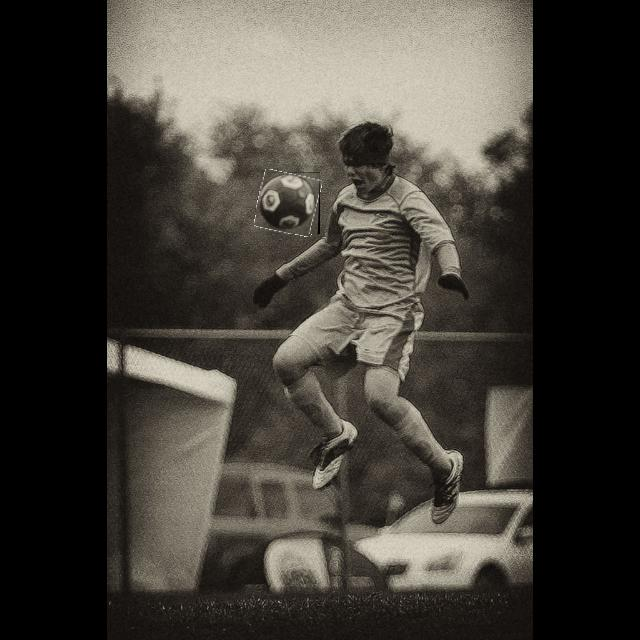Football: (256, 172, 320, 234)
